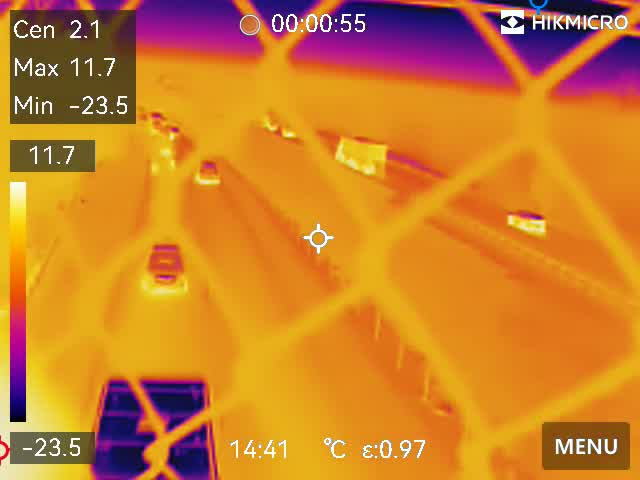heavyTruck: (332, 133, 386, 176)
largeCar: (501, 209, 546, 233)
smallCar: (142, 240, 191, 301)
vehicle: (194, 159, 222, 188)
